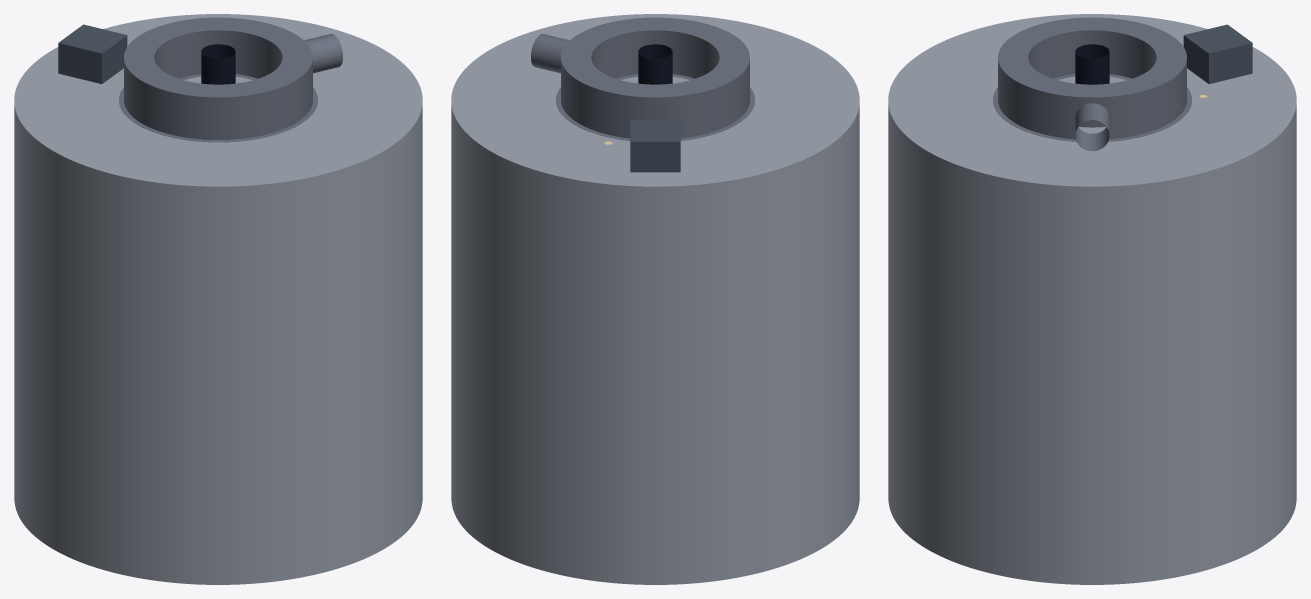
3 views of the same model, side by side, from view 1: azimuth 30°, elevation 25°; view 2: azimuth 150°, elevation 25°; view 3: azimuth 270°, elevation 25° (orthographic).
Parts seen in each view (by area): view 1: Jacket sheet, Jacket cap (jacket sheet), Inlet plenum (jacket sheet), Heater junction box, Collector shell; view 2: Jacket sheet, Jacket cap (jacket sheet), Inlet plenum (jacket sheet), Heater junction box, Collector shell; view 3: Jacket sheet, Jacket cap (jacket sheet), Inlet plenum (jacket sheet), Heater junction box, Collector shell.
Boxes of the visible parts, x1=… form: Jacket sheet: x1=14, y1=112, x2=422, y2=584; Jacket cap (jacket sheet): x1=14, y1=14, x2=422, y2=194; Inlet plenum (jacket sheet): x1=119, y1=17, x2=342, y2=142; Heater junction box: x1=58, y1=24, x2=127, y2=83; Collector shell: x1=201, y1=44, x2=235, y2=84; Jacket sheet: x1=451, y1=112, x2=859, y2=584; Jacket cap (jacket sheet): x1=451, y1=14, x2=859, y2=194; Inlet plenum (jacket sheet): x1=531, y1=17, x2=754, y2=140; Heater junction box: x1=630, y1=120, x2=680, y2=172; Collector shell: x1=638, y1=44, x2=672, y2=84; Jacket sheet: x1=888, y1=112, x2=1296, y2=584; Jacket cap (jacket sheet): x1=888, y1=14, x2=1296, y2=194; Inlet plenum (jacket sheet): x1=993, y1=17, x2=1191, y2=150; Heater junction box: x1=1183, y1=24, x2=1252, y2=83; Collector shell: x1=1075, y1=44, x2=1109, y2=84.
Bounding box in the file's own units: 1.21 × 1.46 × 1.21.
